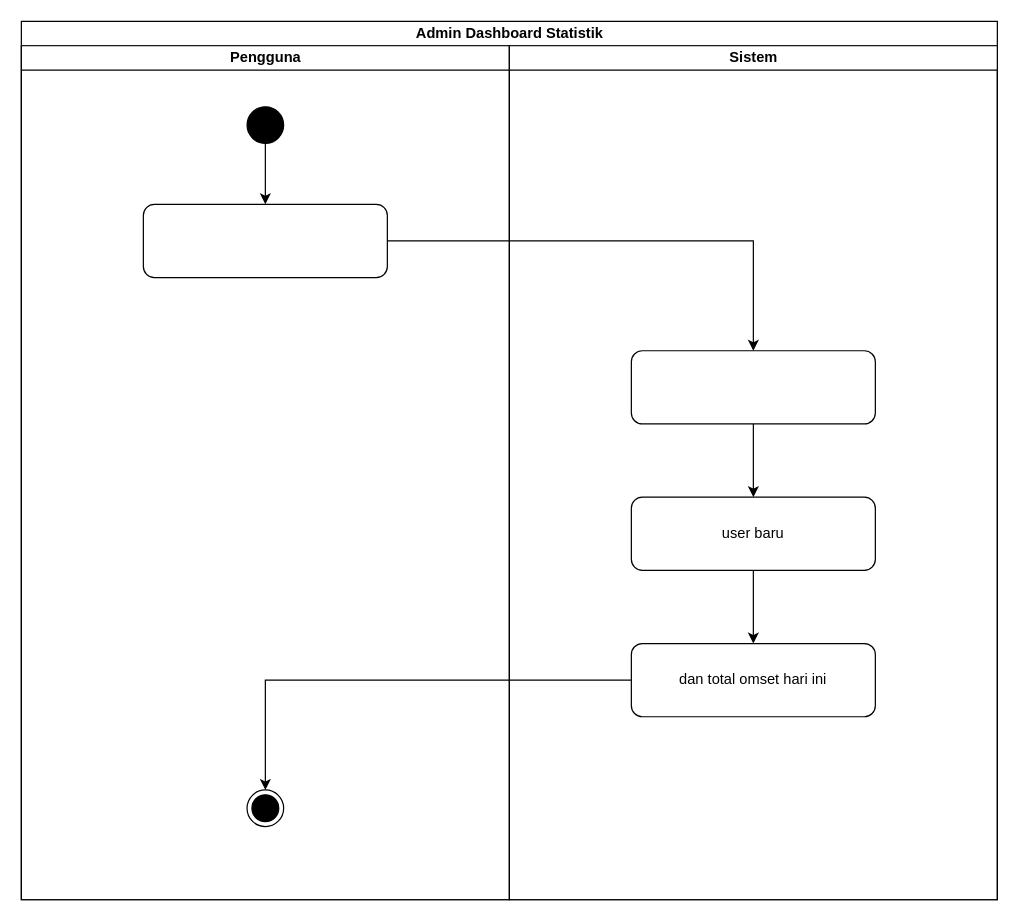
This 1019x921 diagram has some shape labels left out. Here are the shapes that lost their labels. From the top down, the centre of each, then its label:
the point at 264,240: Melihat ringkasan data hari ini
the point at 752,387: Menampilkan jumlah booking baru
